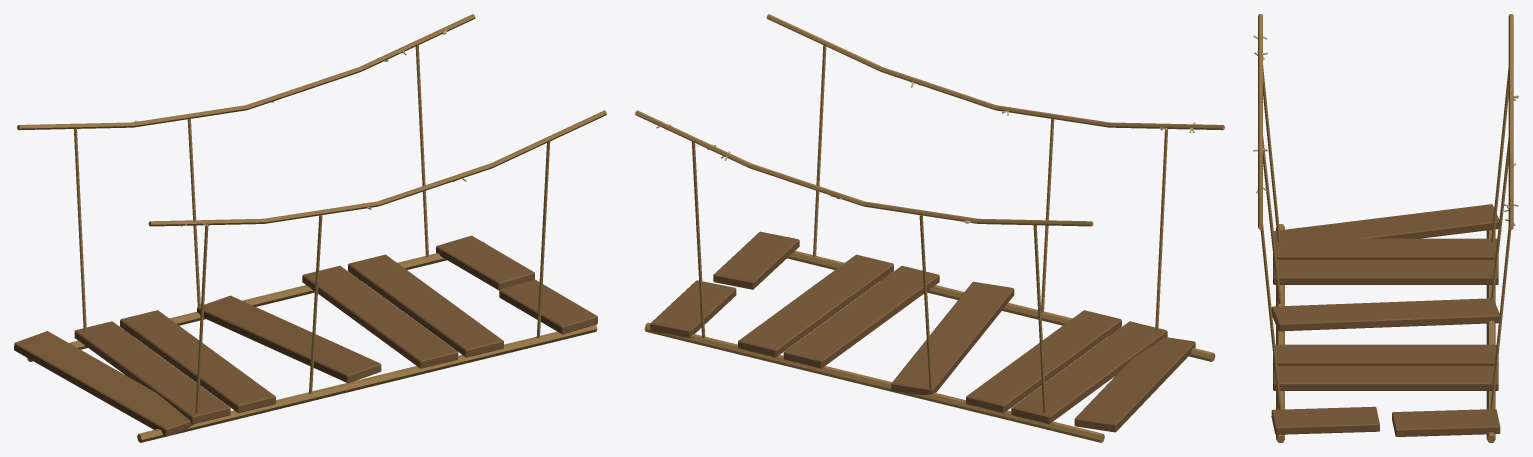
Rendered from Prop_YTM_RopeBridge_Seg_S1.glb.
3 renders of one model, left to right at view 1: azimuth 30°, elevation 25°; view 2: azimuth 150°, elevation 25°; view 3: azimuth 270°, elevation 25°, orthographic. The views are drawn at different scales.
Parts seen in each view (by area): view 1: Prop_YTM_RopeBridge_Seg_S1; view 2: Prop_YTM_RopeBridge_Seg_S1; view 3: Prop_YTM_RopeBridge_Seg_S1.
Part boxes in pixels (left/top/right/bottom): Prop_YTM_RopeBridge_Seg_S1: left=14, top=14, right=606, bottom=442; Prop_YTM_RopeBridge_Seg_S1: left=635, top=14, right=1224, bottom=442; Prop_YTM_RopeBridge_Seg_S1: left=1253, top=14, right=1518, bottom=442.
Size of what is drawn, in the model's own units: 2.07 by 0.9561 by 1.06.
